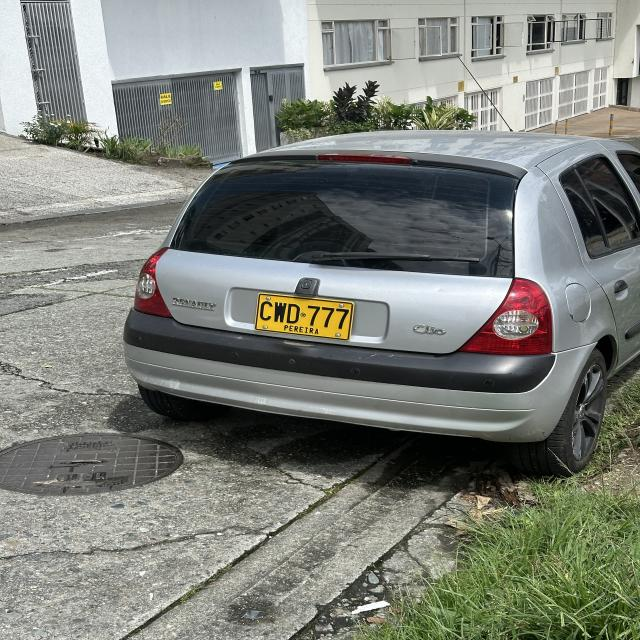number plate: (255, 293, 354, 340)
